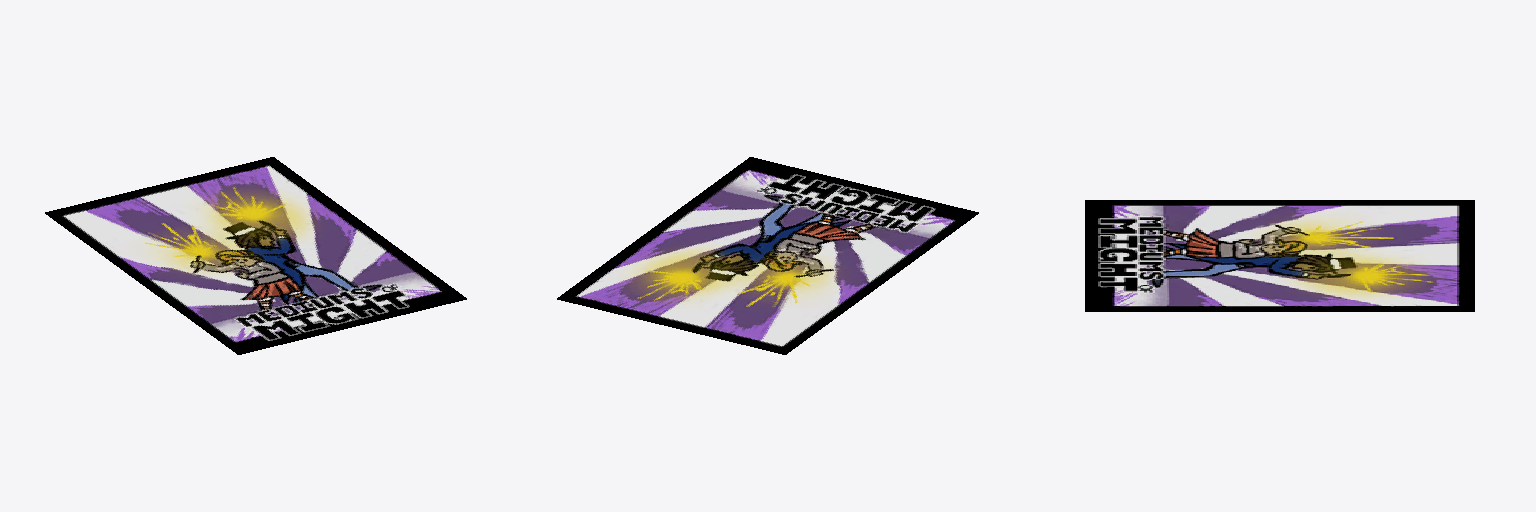
3 renders of one model, left to right at view 1: azimuth 30°, elevation 25°; view 2: azimuth 150°, elevation 25°; view 3: azimuth 270°, elevation 25°, orthographic.
Parts seen in each view (by area): view 1: Quest_Poster; view 2: Quest_Poster; view 3: Quest_Poster.
Boxes of the visible parts, x1=… form: Quest_Poster: x1=45, y1=157, x2=466, y2=354; Quest_Poster: x1=557, y1=157, x2=978, y2=354; Quest_Poster: x1=1085, y1=200, x2=1474, y2=311.
Bounding box in the file's own units: 1.01 × 0 × 1.48.
Materials: 1 (1 with a texture image).